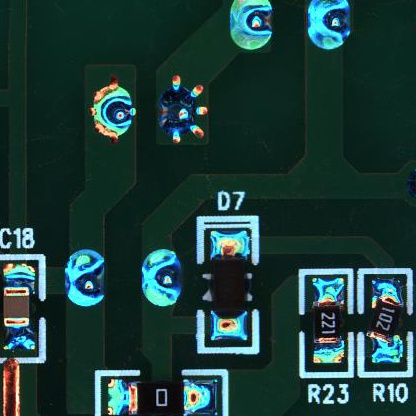spot: (159, 71, 208, 146), (91, 75, 137, 145), (140, 245, 183, 307), (305, 1, 352, 52), (65, 249, 105, 307), (229, 1, 274, 51)
